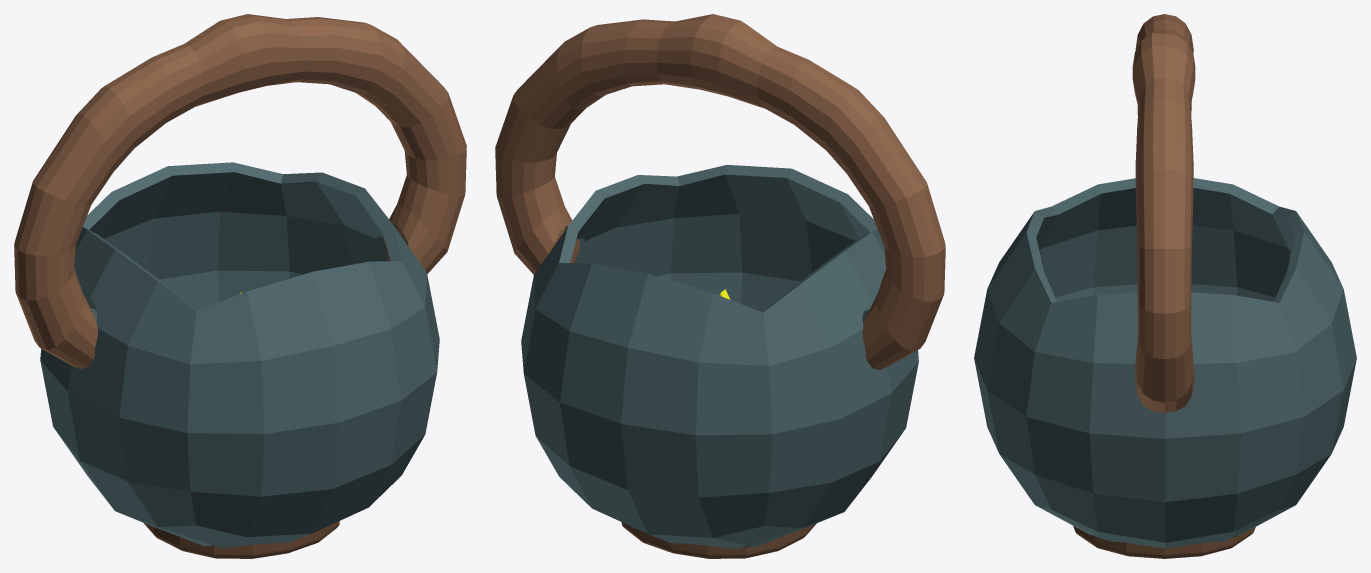
3 renders of one model, left to right at view 1: azimuth 30°, elevation 25°; view 2: azimuth 150°, elevation 25°; view 3: azimuth 270°, elevation 25°, orthographic. The views are drawn at different scales.
Visible parts, largest first — view 1: 立方体.003, 立方体.004, 立方体.005; view 2: 立方体.003, 立方体.004, 立方体.005; view 3: 立方体.003, 立方体.004, 立方体.005.
Boxes of the visible parts, x1,y1,x2,y2 form: 立方体.003: (40,162,439,548); 立方体.004: (14,14,466,369); 立方体.005: (144,521,339,558); 立方体.003: (521,165,918,548); 立方体.004: (495,14,945,369); 立方体.005: (621,522,816,558); 立方体.003: (974,178,1356,548); 立方体.004: (1132,14,1195,412); 立方体.005: (1073,526,1255,558).
Bounding box in the file's own units: 217 × 233 × 168.
